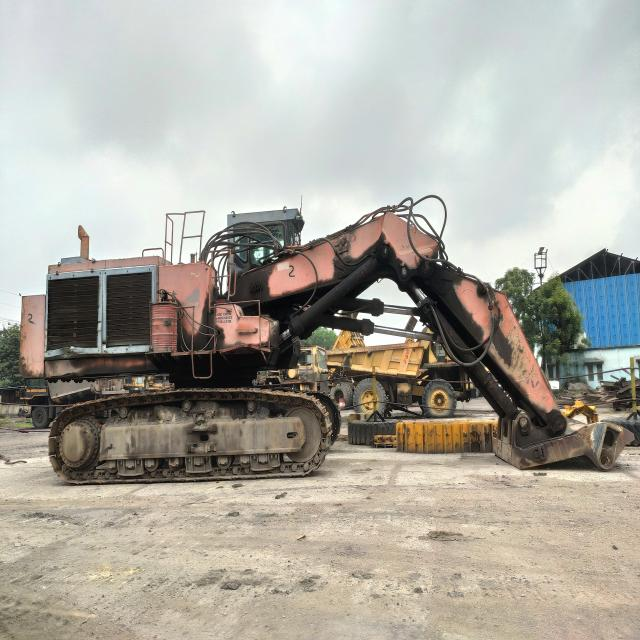excavator: (27, 197, 612, 485)
